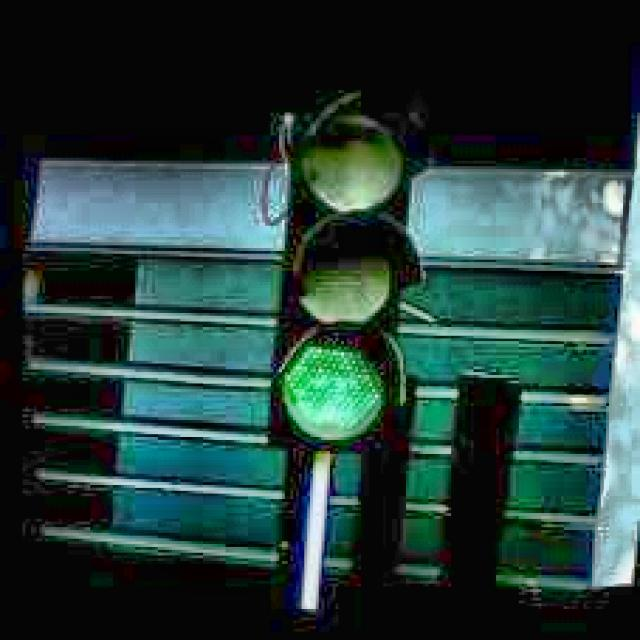green: (217, 83, 460, 481)
